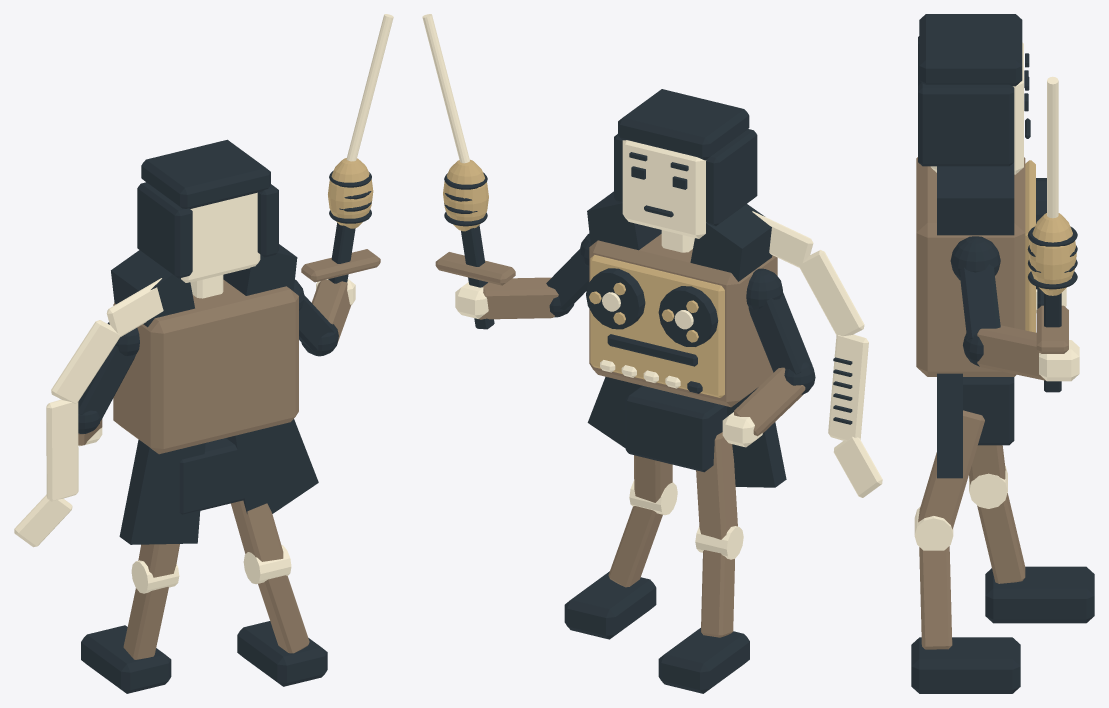
The picture shows the model from 3 angles, left to right: view 1: azimuth 30°, elevation 25°; view 2: azimuth 150°, elevation 25°; view 3: azimuth 270°, elevation 25°; orthographic projection. The views are drawn at different scales.
Visible parts, largest first — view 1: recorder_torso, bob_cap, split_tape_coat_L, split_tape_coat_R, recorder_head, pelvis_block, bob_side_-0.18, left_shoe, right_shoe, transcript_sash_2, high_collar_left, transcript_sash_1 (+18 smaller); view 2: recorder_faceplate, recorder_torso, pelvis_block, recorder_head, bob_cap, left_shoe, right_shoe, high_collar_left, bob_side_-0.18, left_thigh, transcript_sash_2, left_upper_arm (+24 smaller); view 3: recorder_torso, bob_side_0.18, bob_cap, right_shoe, left_shoe, high_collar_right, right_shin, pelvis_block, split_tape_coat_R, right_thigh, microphone_grille, left_shin (+16 smaller).
Part boxes in pixels (x1,y1,x2,y2): recorder_torso: [113, 279, 298, 454]; bob_cap: [141, 139, 270, 208]; split_tape_coat_L: [119, 439, 205, 544]; split_tape_coat_R: [226, 419, 318, 513]; recorder_head: [181, 192, 260, 282]; pelvis_block: [179, 438, 252, 514]; bob_side_-0.18: [137, 182, 192, 278]; left_shoe: [81, 625, 171, 693]; right_shoe: [237, 621, 327, 686]; transcript_sash_2: [46, 399, 78, 501]; high_collar_left: [111, 250, 194, 327]; transcript_sash_1: [51, 320, 120, 403]; recorder_faceplate: [590, 255, 724, 397]; recorder_torso: [589, 234, 777, 407]; pelvis_block: [625, 386, 726, 472]; recorder_head: [622, 140, 706, 238]; bob_cap: [618, 89, 749, 160]; left_shoe: [658, 628, 749, 693]; right_shoe: [564, 571, 656, 639]; high_collar_left: [690, 204, 772, 281]; bob_side_-0.18: [706, 129, 757, 226]; left_thigh: [696, 432, 737, 539]; transcript_sash_2: [828, 334, 868, 440]; left_upper_arm: [748, 292, 812, 374]; recorder_torso: [916, 157, 1025, 376]; bob_side_0.18: [918, 82, 1014, 166]; bob_cap: [919, 14, 1022, 86]; right_shoe: [911, 637, 1020, 693]; left_shoe: [985, 566, 1094, 623]; high_collar_right: [937, 162, 1014, 235]; right_shin: [919, 546, 952, 649]; pelvis_block: [963, 377, 1014, 445]; split_tape_coat_R: [937, 373, 962, 478]; right_thigh: [918, 410, 984, 529]; microphone_grille: [1028, 213, 1076, 295]; left_shin: [977, 493, 1025, 583].
Size of the model in its own units: 1.74 by 2.36 by 0.57.
